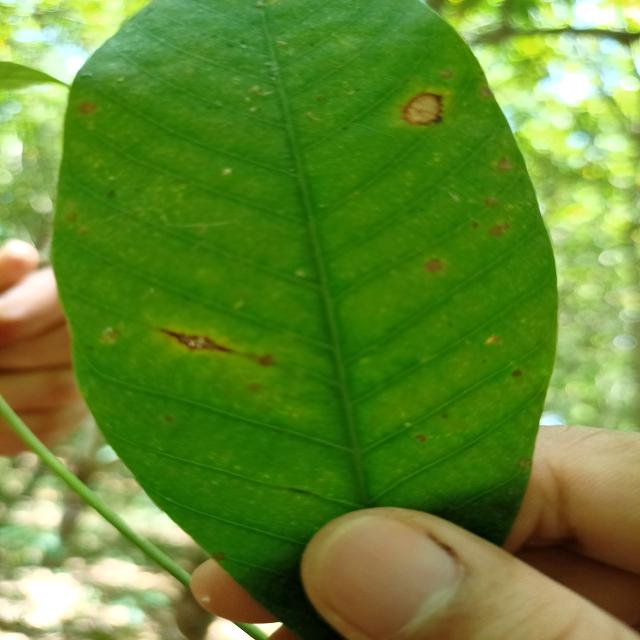Corynespora: (162, 327, 232, 356)
